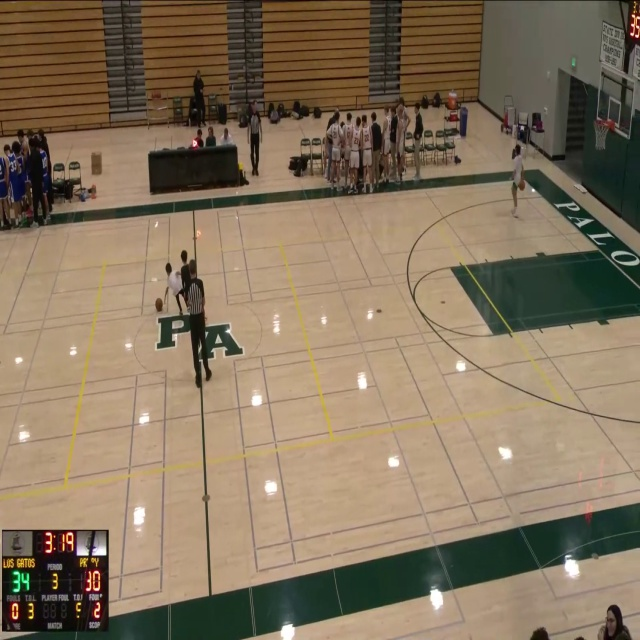Basketball: (155, 298, 163, 311), (518, 180, 525, 190)
